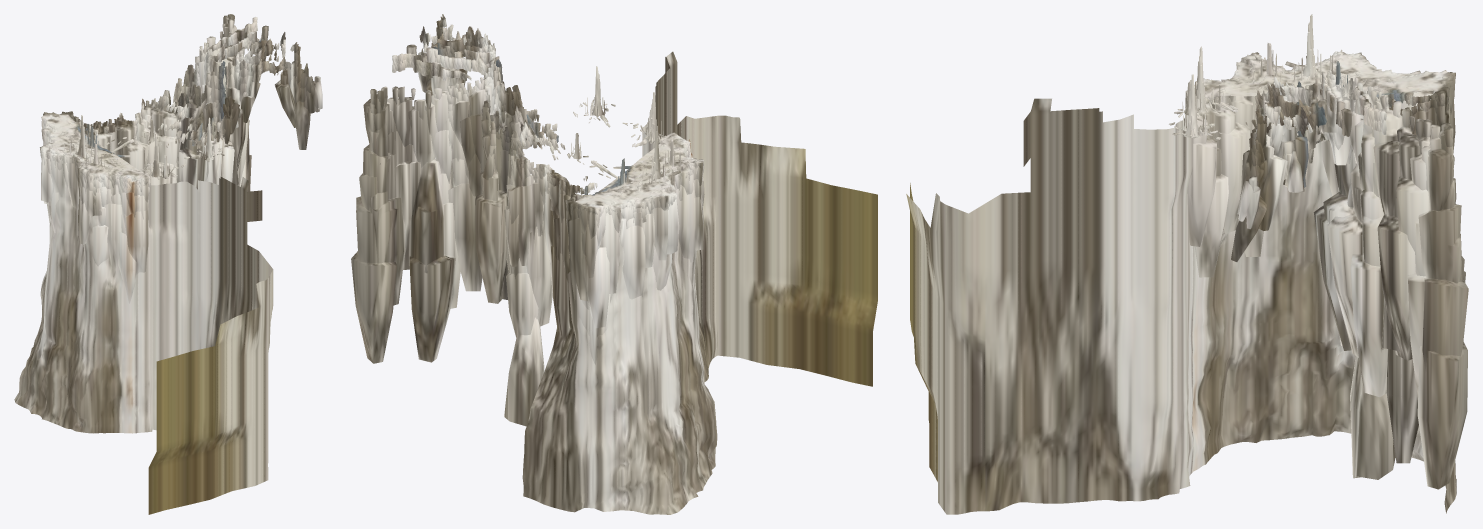
File: tile_1_5.glb
3 renders of one model, left to right at view 1: azimuth 30°, elevation 25°; view 2: azimuth 150°, elevation 25°; view 3: azimuth 270°, elevation 25°, orthographic. The views are drawn at different scales.
Visible parts, largest first — view 1: mesh[0].081, mesh[2].034, mesh[3].021, mesh[2].031, mesh[0].028, mesh[1].043, mesh[1].046, mesh[0].061, mesh[1].022, mesh[0].060; view 2: mesh[0].081, mesh[2].034, mesh[2].031, mesh[0].028, mesh[1].043, mesh[1].046, mesh[0].061, mesh[3].021; view 3: mesh[0].081, mesh[2].034, mesh[3].021, mesh[0].028, mesh[2].031, mesh[1].043, mesh[1].046, mesh[0].061, mesh[1].022.
Part boxes in pixels (x1,y1,x2,y2): mesh[0].081: [14, 129, 273, 514]; mesh[2].034: [72, 14, 322, 191]; mesh[3].021: [78, 168, 150, 303]; mesh[2].031: [40, 111, 85, 251]; mesh[0].028: [43, 113, 127, 169]; mesh[1].043: [58, 115, 130, 168]; mesh[1].046: [138, 117, 224, 179]; mesh[0].061: [40, 111, 113, 168]; mesh[1].022: [86, 163, 147, 182]; mesh[0].060: [78, 167, 149, 194]; mesh[0].081: [522, 51, 877, 514]; mesh[2].034: [351, 14, 610, 426]; mesh[2].031: [566, 162, 697, 328]; mesh[0].028: [573, 154, 694, 208]; mesh[1].043: [604, 131, 696, 197]; mesh[1].046: [573, 66, 667, 147]; mesh[0].061: [565, 157, 698, 214]; mesh[3].021: [668, 133, 704, 258]; mesh[0].081: [906, 95, 1456, 514]; mesh[2].034: [1231, 70, 1468, 489]; mesh[3].021: [1185, 53, 1263, 277]; mesh[0].028: [1253, 52, 1451, 99]; mesh[2].031: [1244, 49, 1455, 195]; mesh[1].043: [1250, 14, 1387, 93]; mesh[1].046: [1169, 46, 1237, 139]; mesh[0].061: [1252, 52, 1455, 101]; mesh[1].022: [1194, 57, 1253, 96].
Size of the model in its own units: 1657 by 1898 by 1895.
Materials: 1 (1 with a texture image).
